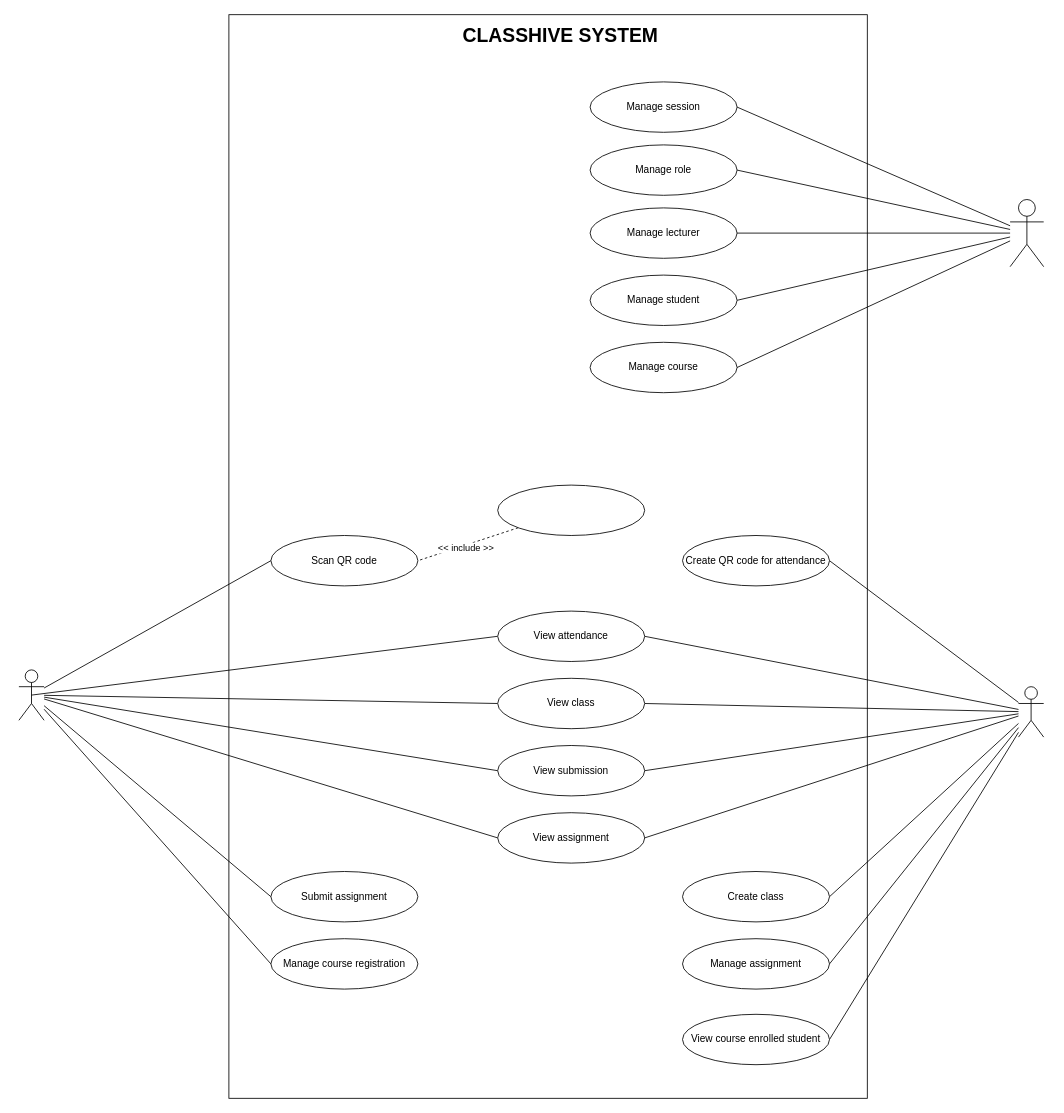
Image size: 1064x1113. Some labels were removed from this diagram. The shapes that lost their labels are listed below. From the top down, each one's centre as x and y in pixels, then its label:
At point 1026,233: "Admin".
At point 571,510: "Register attendance".
At point 31,694: "Student".
At point 1031,711: "Lecturer".
